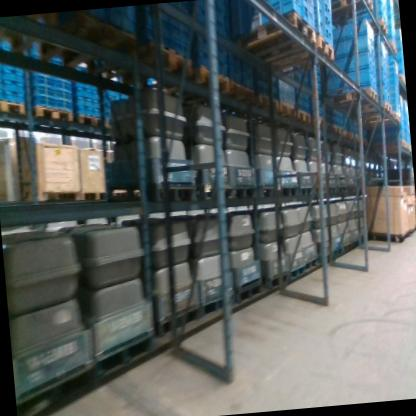pallet: (0, 10, 90, 73), (240, 8, 318, 60), (91, 326, 157, 379), (259, 33, 336, 69), (86, 10, 139, 60), (147, 36, 196, 80), (322, 85, 379, 110), (157, 304, 202, 334), (196, 62, 232, 98), (34, 188, 82, 212), (31, 101, 75, 127), (198, 293, 237, 318), (330, 0, 375, 20), (230, 77, 259, 107), (235, 279, 265, 306), (349, 100, 393, 118), (167, 183, 203, 204), (0, 92, 27, 120), (367, 111, 401, 128), (202, 184, 233, 201), (77, 112, 104, 130), (267, 271, 292, 290), (259, 92, 280, 113), (279, 97, 298, 119), (276, 183, 300, 200), (230, 185, 256, 200), (81, 189, 111, 202), (298, 185, 317, 204), (372, 16, 389, 36), (291, 263, 309, 280), (297, 107, 313, 126), (385, 38, 398, 56), (305, 256, 320, 270), (334, 123, 347, 138), (258, 186, 275, 196), (399, 74, 406, 88), (401, 138, 408, 150)
small_load_carrier: (259, 0, 315, 29), (140, 6, 171, 36), (341, 18, 376, 44), (143, 23, 176, 47), (348, 52, 378, 77), (344, 67, 378, 89), (307, 0, 334, 26), (323, 55, 352, 79), (345, 35, 376, 57), (328, 70, 353, 97), (192, 28, 219, 51), (313, 22, 334, 48), (328, 38, 351, 60), (172, 33, 193, 57), (173, 12, 192, 38), (328, 25, 353, 43), (193, 51, 214, 69), (371, 53, 388, 75), (251, 79, 272, 96), (215, 40, 230, 63), (236, 70, 253, 89), (211, 57, 228, 75), (372, 71, 389, 88), (373, 87, 387, 107), (225, 65, 240, 83), (386, 56, 398, 72), (375, 40, 387, 54), (273, 85, 282, 99), (389, 98, 399, 109), (387, 67, 399, 75), (388, 75, 398, 83), (389, 86, 398, 93), (389, 93, 398, 99), (388, 82, 398, 87)
